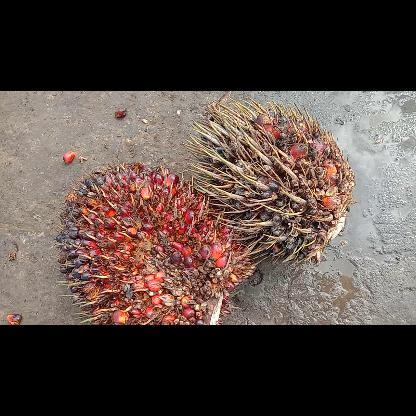TBS abnormal: (182, 93, 358, 263)
TBS masak: (56, 162, 254, 324)
